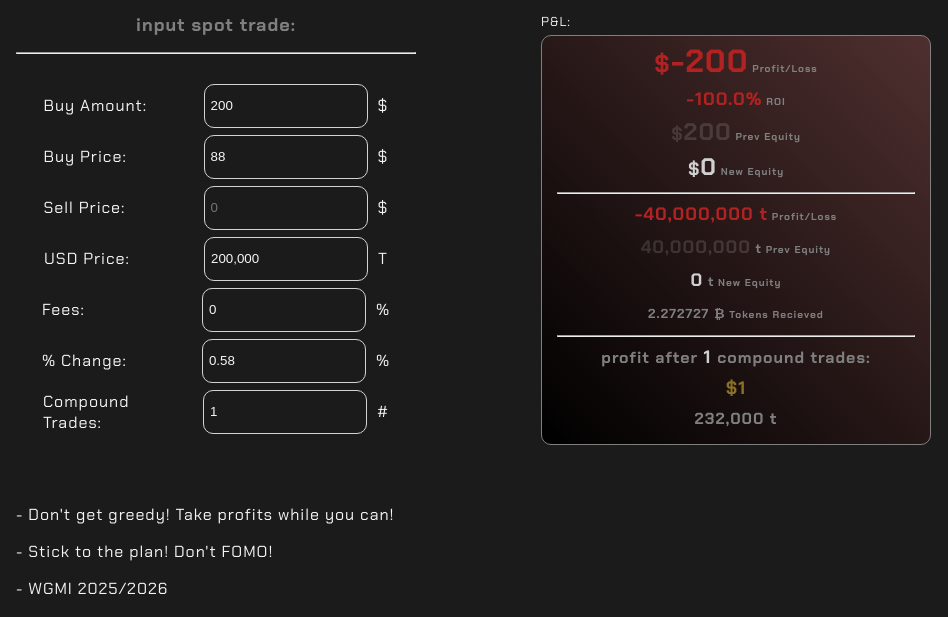
Spot Component - Compound Trades Logic › calculates high volume compound profit correctly
Replace the text in the field showing "200" next to "Buy Amount:" with "400" at (286, 106), box x1=204 y1=84 x2=368 y2=128
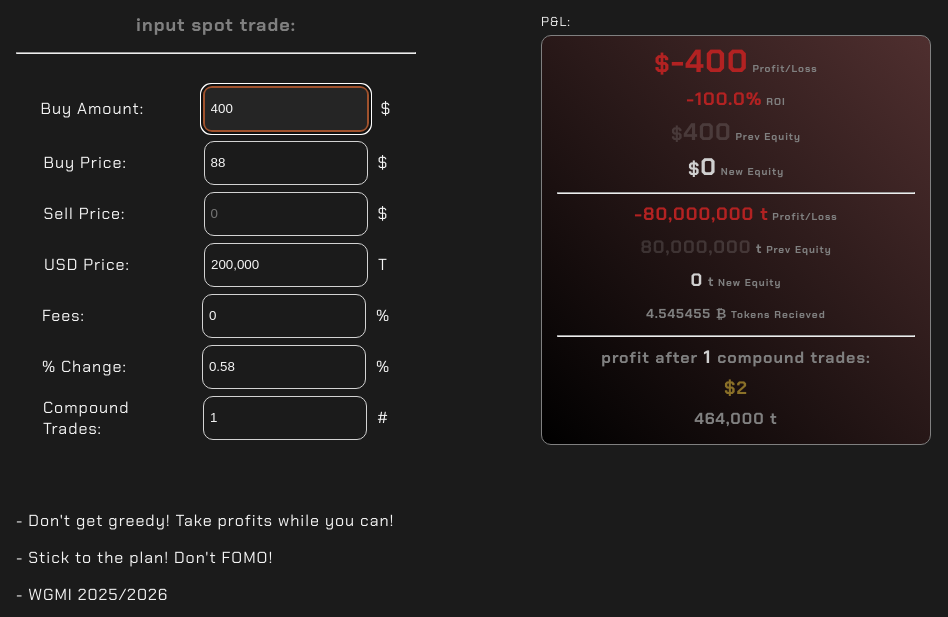
Replace the text in the field showing "0.58" next to "% Change:" with "7.5" at (284, 367), box x1=202 y1=345 x2=366 y2=389
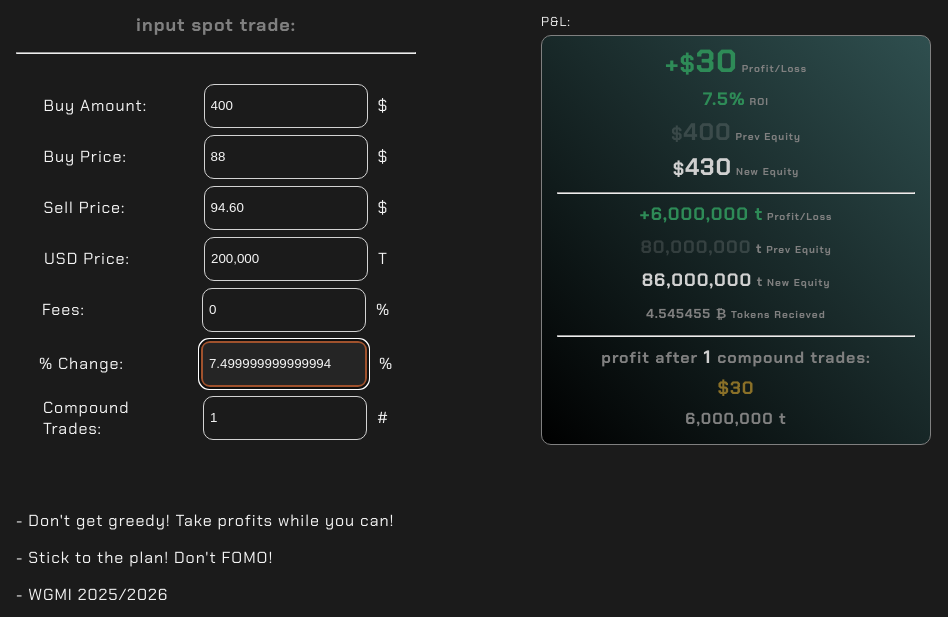
Type "20" into the 7th field showing "1" at (285, 418), box x1=203 y1=396 x2=367 y2=440
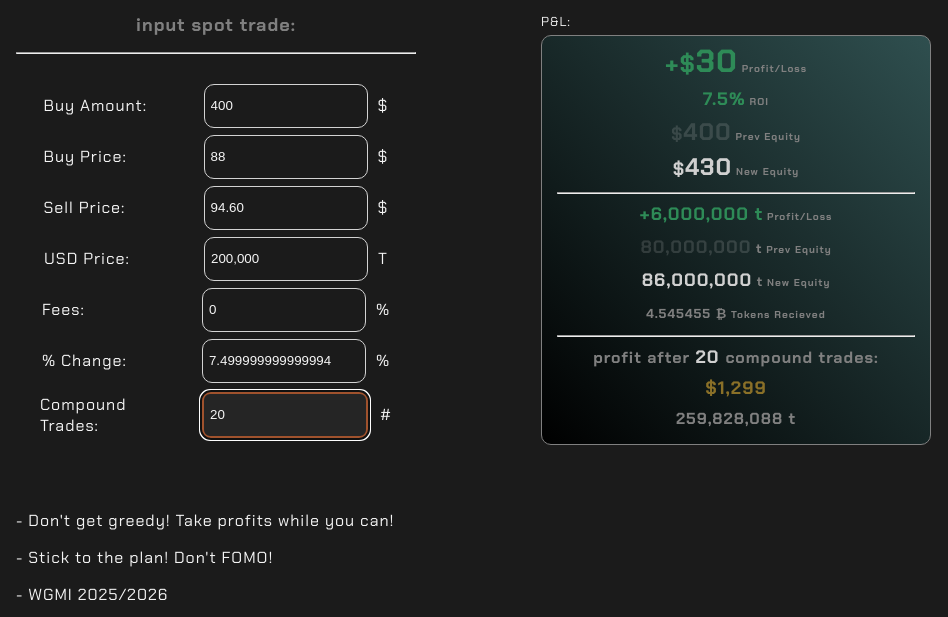
Now the text "$1,299" is shown, box x1=705 y1=376 x2=767 y2=400
